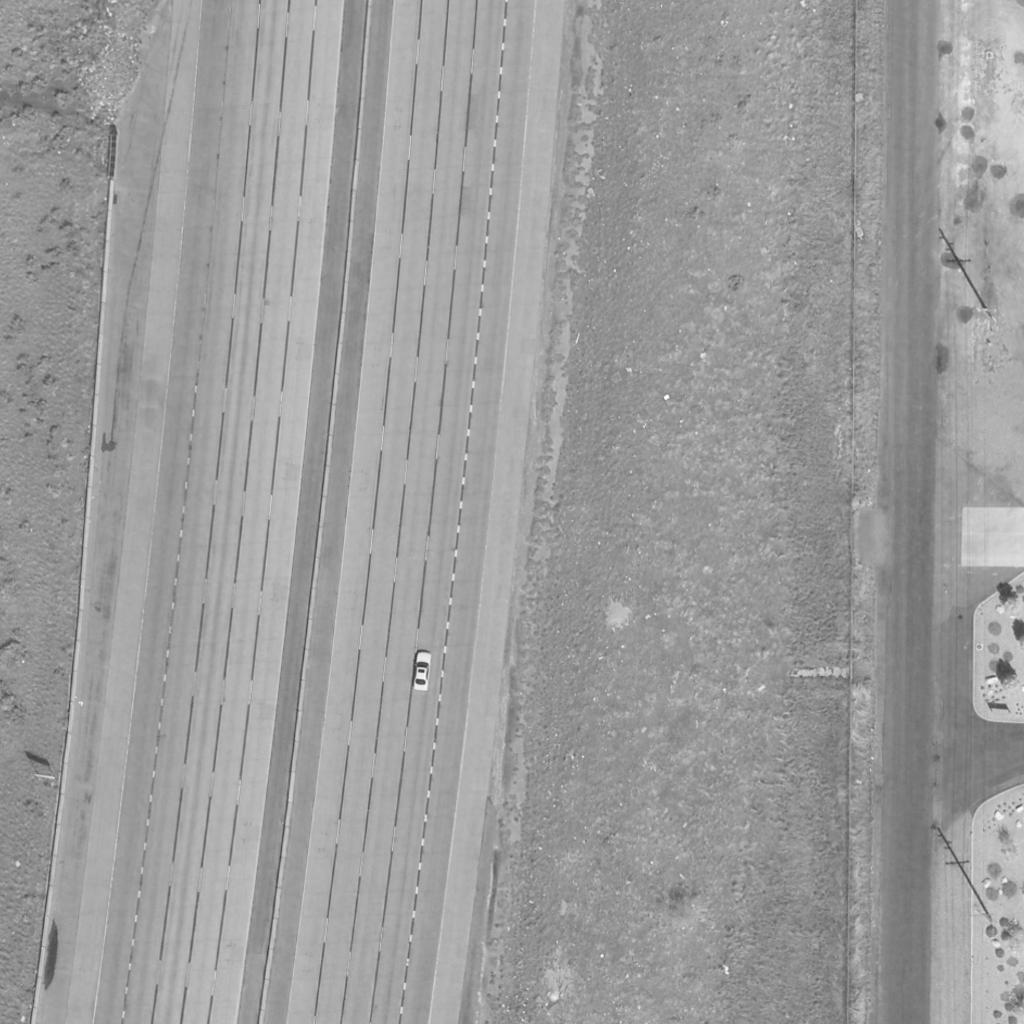vehicle: (412, 651, 432, 691)
